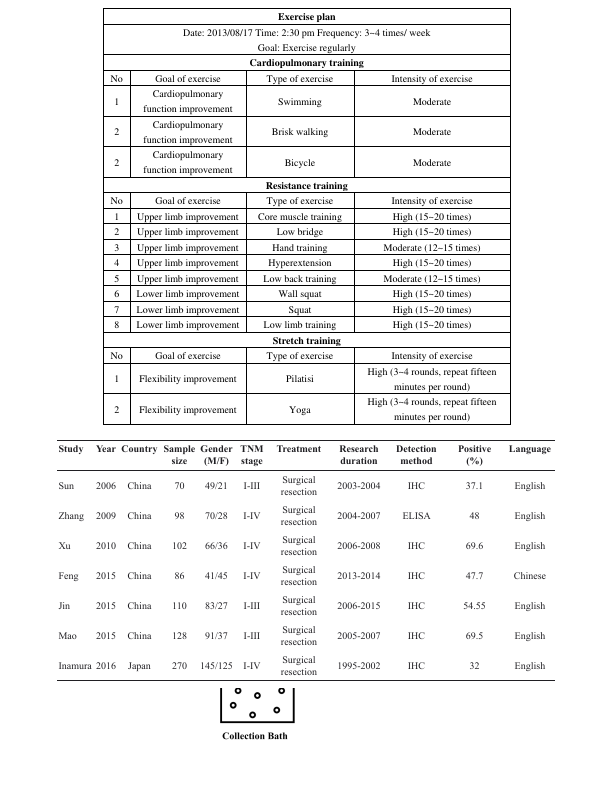bordered: (102, 6, 510, 424)
borderless: (56, 439, 555, 680)
cell: (181, 26, 431, 54), (366, 395, 497, 424), (366, 365, 497, 393), (142, 87, 233, 116), (142, 118, 233, 146), (142, 149, 233, 177), (248, 56, 364, 70), (135, 287, 240, 301), (135, 225, 239, 239), (135, 303, 240, 316), (135, 319, 240, 332), (135, 210, 239, 223), (135, 241, 239, 254), (135, 257, 239, 270), (135, 272, 239, 285), (382, 241, 481, 254), (382, 272, 481, 285), (138, 373, 237, 386), (138, 403, 237, 416), (390, 194, 473, 208), (391, 225, 472, 239), (391, 287, 472, 301), (256, 210, 342, 223), (264, 179, 348, 192), (390, 72, 473, 85), (390, 350, 473, 363), (391, 210, 472, 223), (391, 257, 472, 270), (391, 303, 472, 316), (391, 319, 472, 332), (262, 272, 337, 285), (262, 319, 337, 332), (395, 445, 437, 468), (265, 194, 334, 208), (338, 445, 379, 468), (154, 194, 221, 208), (279, 505, 318, 529), (271, 334, 341, 347), (279, 476, 318, 499), (279, 535, 318, 558), (279, 565, 318, 588), (279, 595, 318, 618), (279, 625, 318, 648), (279, 655, 318, 678), (265, 72, 334, 85), (265, 350, 334, 363), (154, 72, 221, 85), (154, 350, 221, 363), (267, 257, 332, 270), (276, 10, 336, 24), (270, 125, 329, 139), (457, 445, 492, 468), (162, 445, 196, 468), (199, 445, 233, 468), (271, 241, 328, 254), (275, 225, 324, 239), (277, 287, 322, 301), (276, 95, 322, 108), (239, 445, 264, 468), (411, 125, 452, 139), (336, 511, 381, 523), (411, 95, 452, 108), (411, 156, 452, 169), (275, 445, 322, 456), (507, 445, 552, 456), (336, 482, 381, 493), (336, 541, 381, 552), (336, 571, 381, 582), (336, 601, 381, 612), (336, 631, 381, 642), (336, 661, 381, 672), (283, 156, 316, 169), (120, 445, 158, 456), (513, 511, 546, 523), (284, 373, 314, 386), (512, 571, 547, 582), (57, 661, 92, 672), (199, 661, 233, 672), (513, 482, 546, 493), (513, 541, 546, 552), (513, 601, 546, 612), (513, 631, 546, 642), (513, 661, 546, 672), (401, 511, 431, 523), (57, 511, 85, 523), (287, 303, 312, 316), (126, 511, 152, 523), (287, 403, 311, 416), (57, 445, 84, 456), (204, 511, 228, 523), (126, 482, 152, 493), (126, 541, 152, 552), (126, 571, 152, 582), (126, 601, 152, 612), (126, 631, 152, 642), (204, 482, 228, 493), (95, 511, 117, 523), (204, 541, 228, 552), (204, 571, 228, 582), (204, 601, 228, 612), (462, 601, 486, 612), (204, 631, 228, 642), (127, 661, 151, 672), (95, 445, 117, 456), (94, 482, 116, 493), (94, 541, 116, 552), (57, 571, 79, 582), (95, 571, 117, 582), (95, 601, 117, 612), (95, 631, 117, 642), (95, 661, 117, 672), (242, 511, 261, 523), (406, 482, 426, 493), (464, 482, 484, 493), (406, 541, 426, 552), (464, 541, 484, 552), (406, 571, 426, 582), (464, 571, 484, 582), (406, 601, 426, 612), (57, 631, 77, 642), (406, 631, 426, 642), (464, 631, 484, 642), (406, 661, 426, 672), (242, 482, 261, 493), (242, 541, 261, 552), (242, 571, 261, 582), (242, 601, 261, 612), (242, 631, 261, 642), (242, 661, 261, 672), (57, 482, 75, 493), (109, 194, 123, 208), (171, 541, 188, 552), (171, 631, 188, 642), (171, 661, 188, 672), (109, 72, 123, 85), (109, 350, 123, 363), (171, 601, 187, 612), (57, 541, 71, 552), (57, 601, 71, 612), (173, 511, 185, 523), (468, 511, 480, 523), (173, 482, 185, 493), (173, 571, 185, 582), (468, 661, 480, 672), (113, 125, 120, 139), (113, 225, 120, 239), (113, 287, 120, 301), (113, 95, 120, 108), (113, 156, 120, 169), (113, 210, 120, 223), (113, 241, 120, 254), (113, 257, 120, 270), (113, 272, 120, 285), (113, 303, 120, 316), (113, 319, 120, 332), (113, 373, 120, 386), (113, 403, 120, 416)
